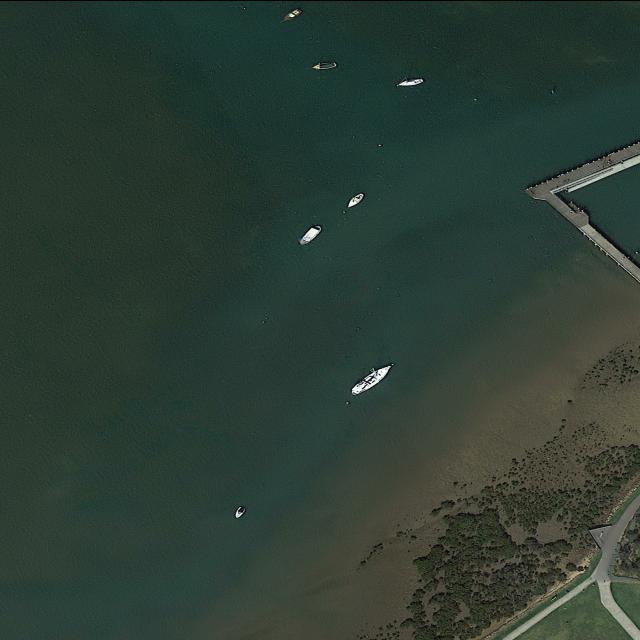ship: (348, 361, 396, 395), (297, 223, 323, 246), (278, 7, 304, 24), (344, 192, 366, 208), (306, 60, 339, 70), (395, 76, 425, 86), (233, 504, 247, 518)
